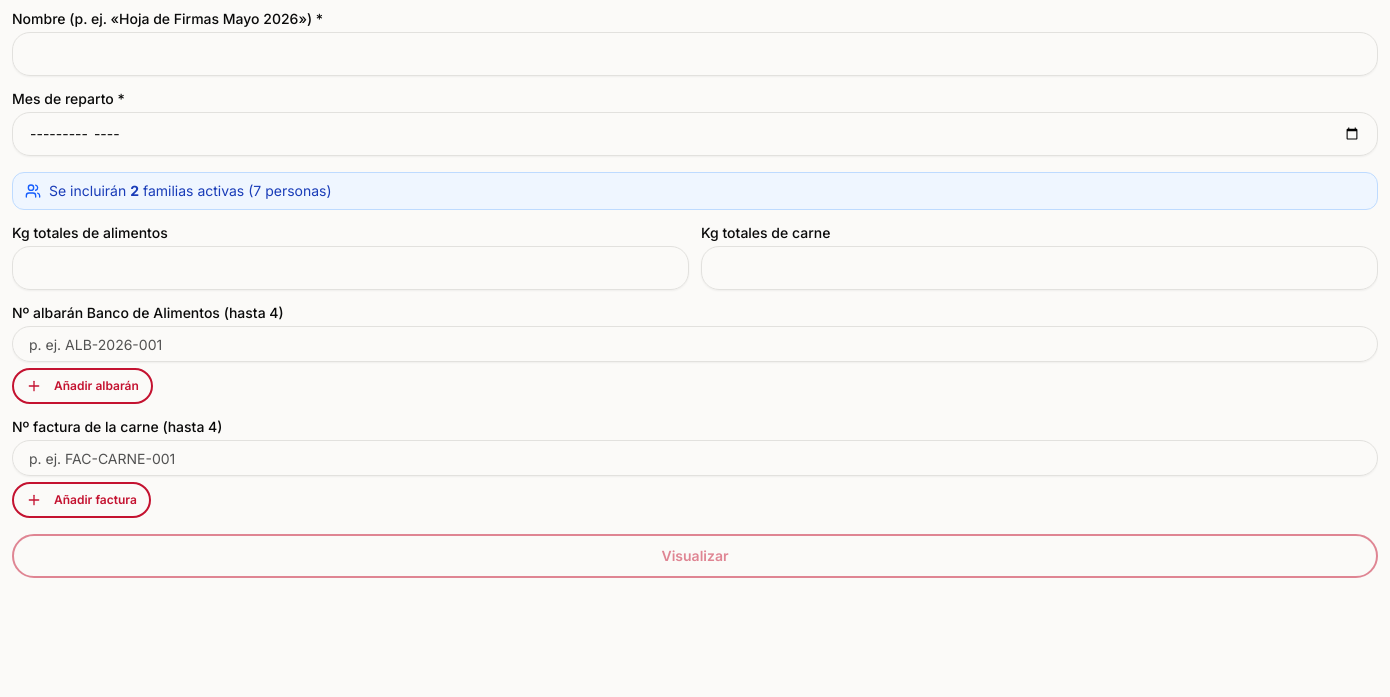
Test: CrearRepartoForm — slot-based model › marks the first slot as fuera-de-Madrid when the toggle is enabled
The width and height of the screenshot is (1390, 697).
In the field labelled "Mes de reparto *": [695, 134] box [12, 112, 1378, 156], type "2026-06"
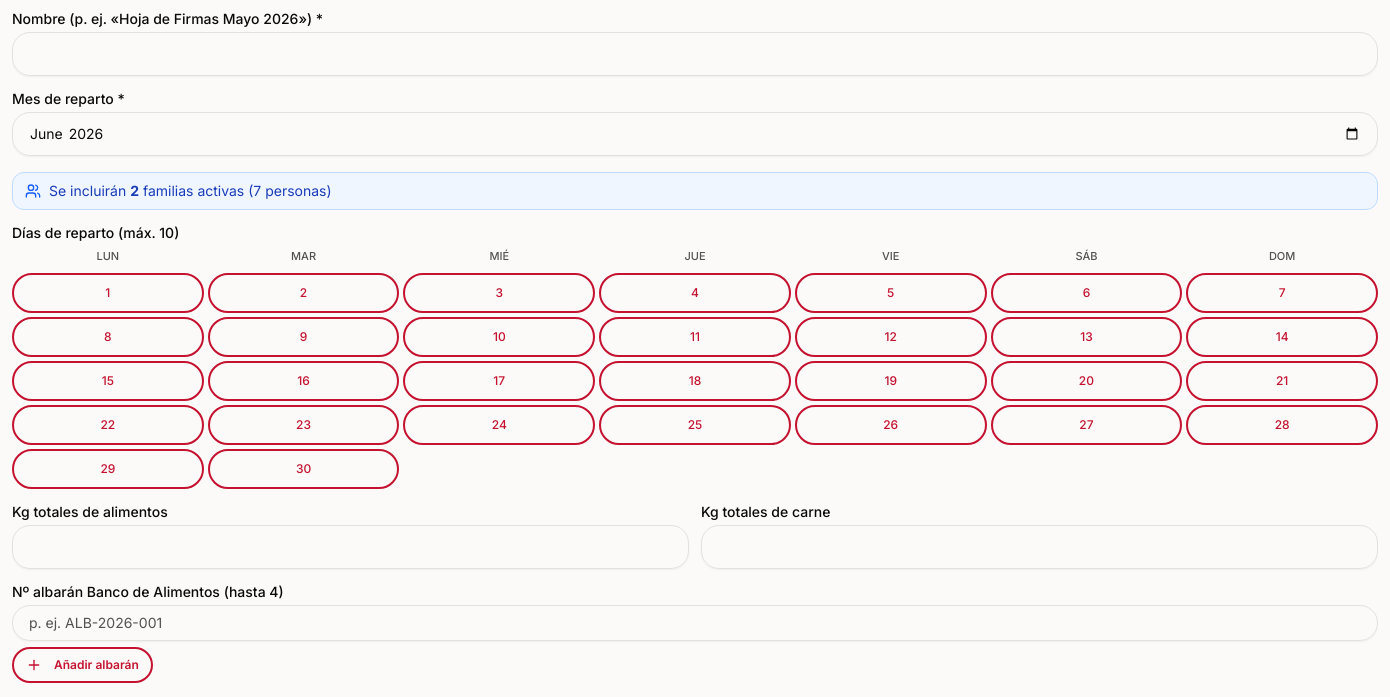
# Pick two days
Click the button "1": [108, 292] box [12, 272, 204, 312]
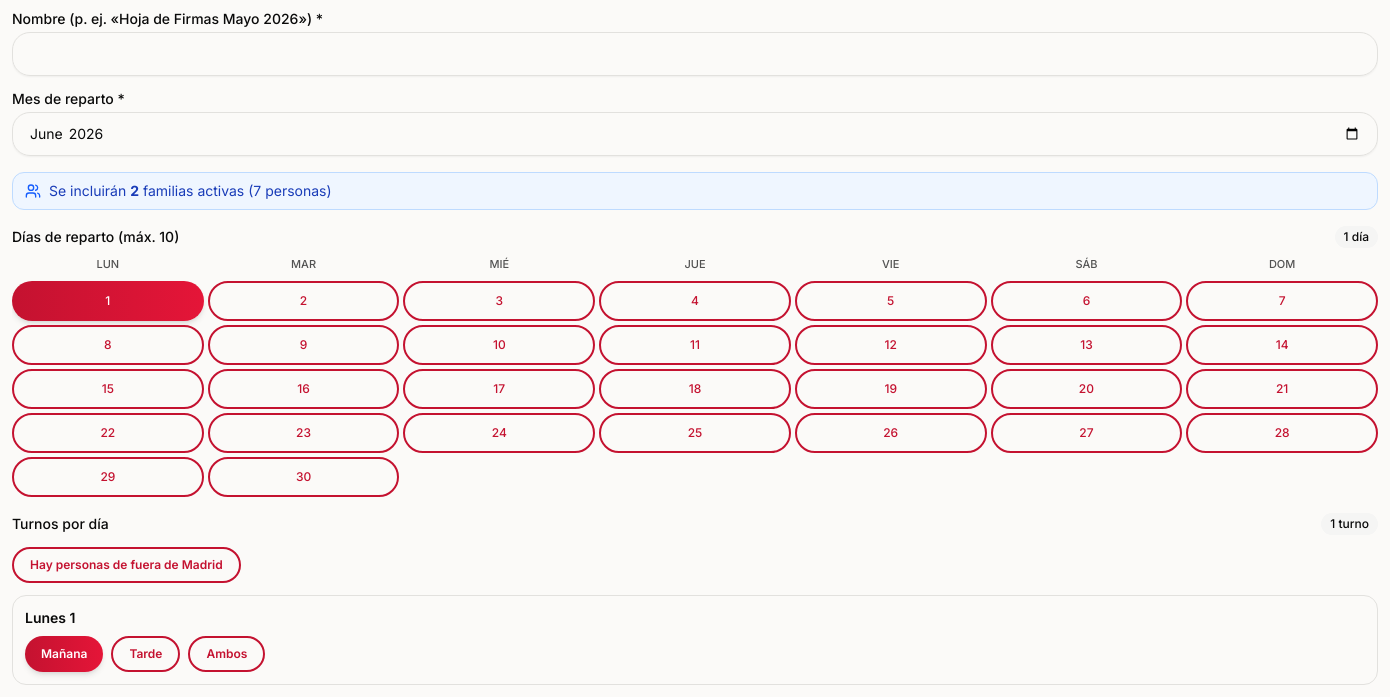
Click the button "2": [304, 300] box [208, 280, 399, 320]
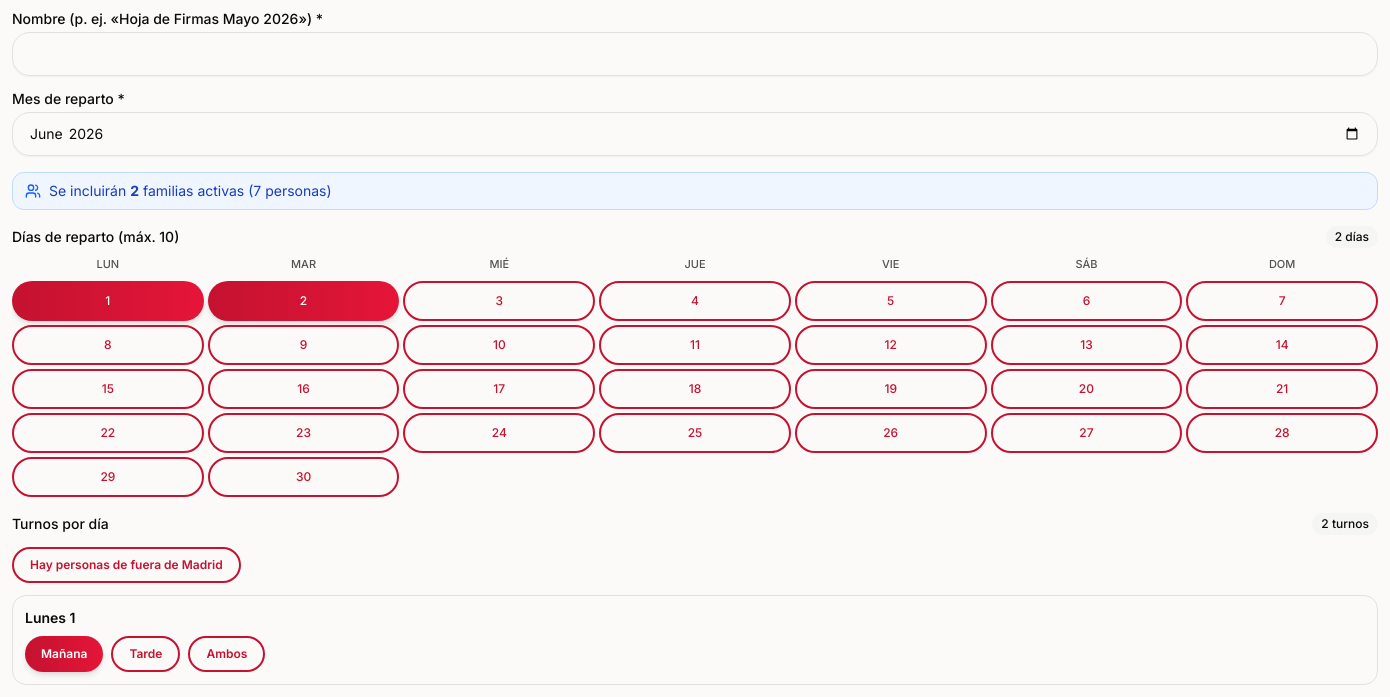
# Enable fuera de Madrid toggle
Click the button "Hay personas de fuera de Madrid": [126, 564] box [12, 546, 241, 582]
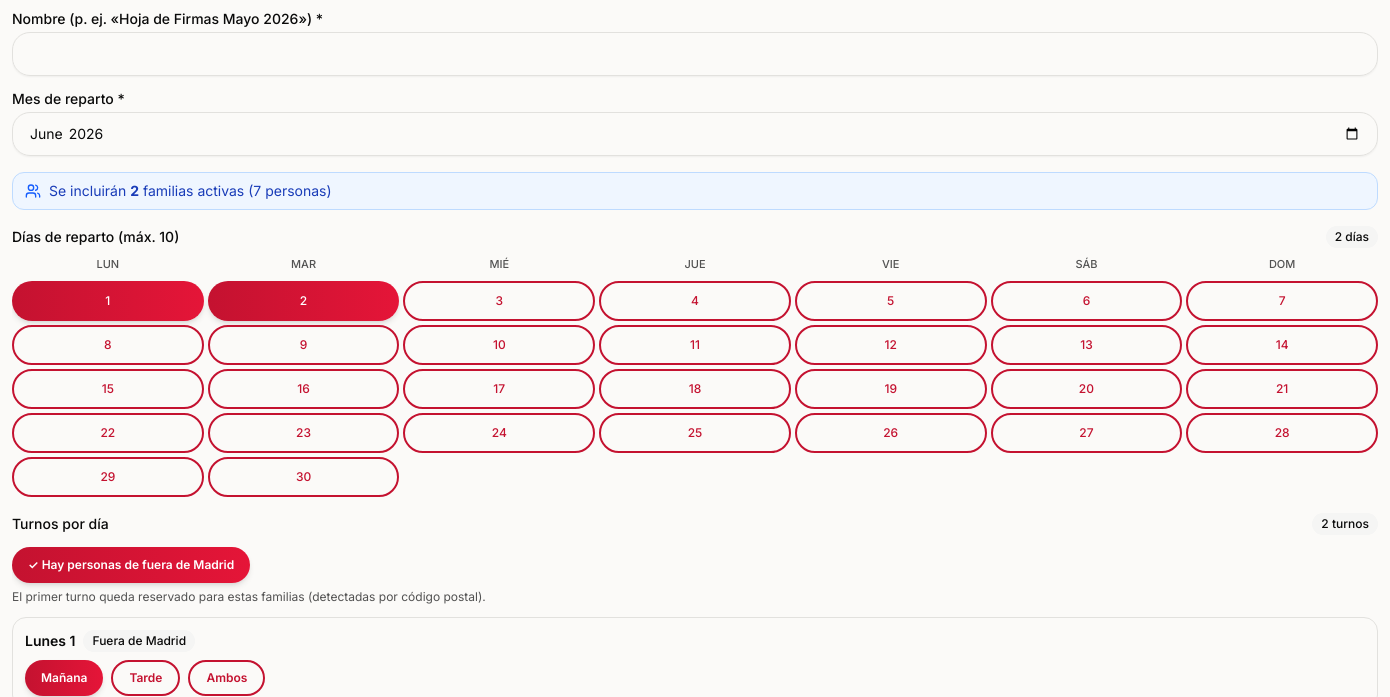
Expected: the text "Fuera de Madrid" is shown, [84, 630, 195, 652]
